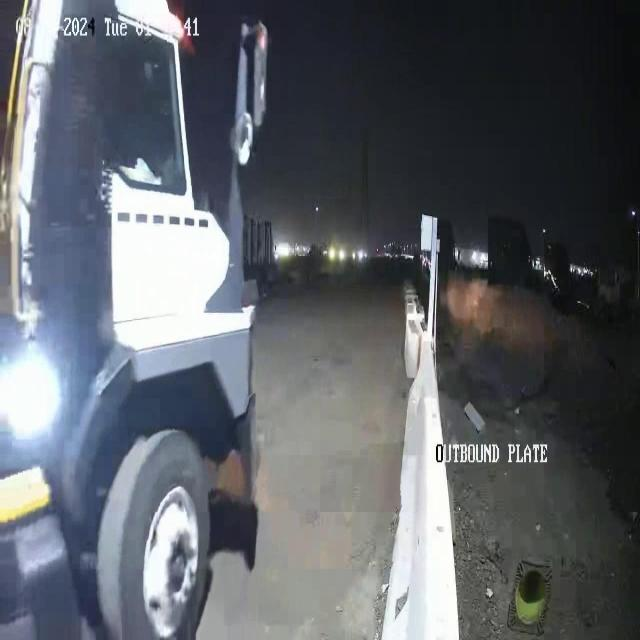TRUCK_IN: (1, 1, 265, 638)
